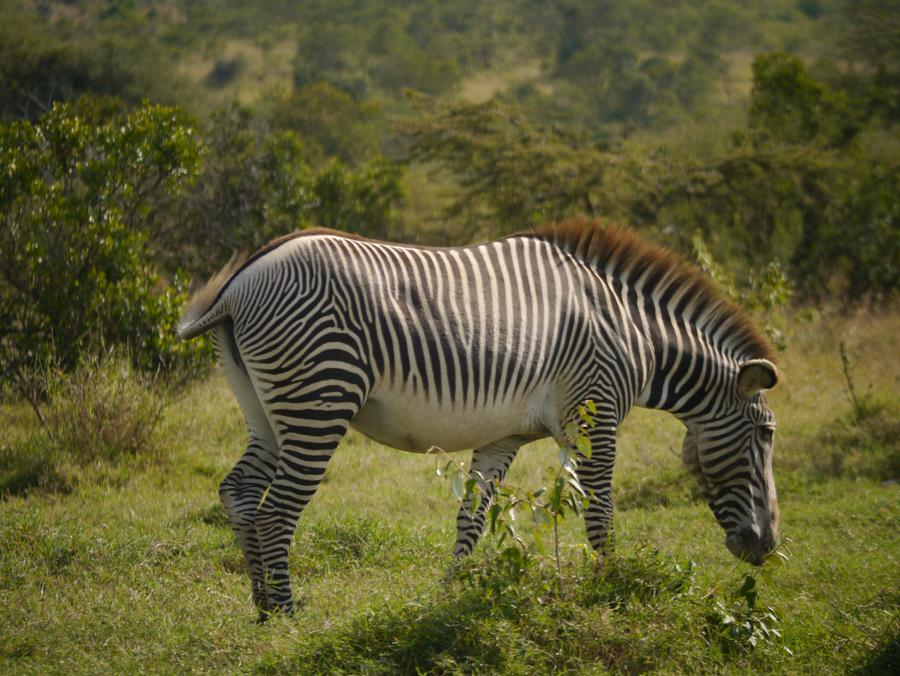zebra_grevys: (208, 229, 618, 433)
